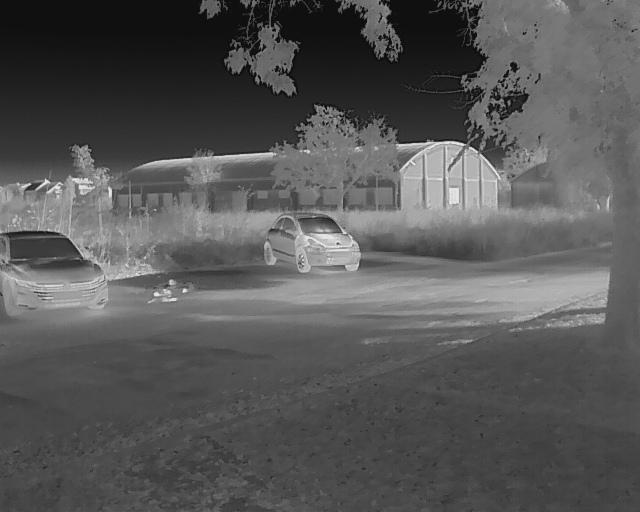drone: (137, 272, 198, 312)
